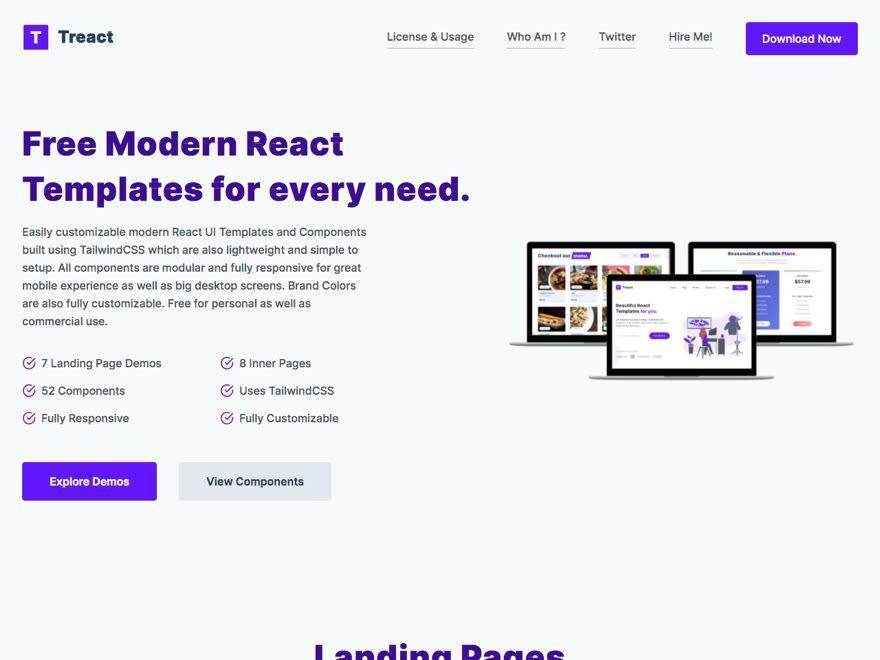button: (181, 463, 333, 502), (22, 464, 157, 500), (747, 22, 860, 55)
checkbox: (20, 354, 39, 373), (20, 410, 39, 428), (23, 384, 39, 401), (221, 410, 235, 429), (221, 384, 235, 399), (221, 357, 234, 373)
label: (42, 356, 164, 376), (386, 25, 480, 50), (235, 381, 339, 402), (493, 25, 578, 49), (240, 413, 343, 432), (44, 409, 137, 426), (235, 358, 322, 373), (41, 384, 127, 399), (659, 29, 717, 49), (594, 27, 643, 48)
